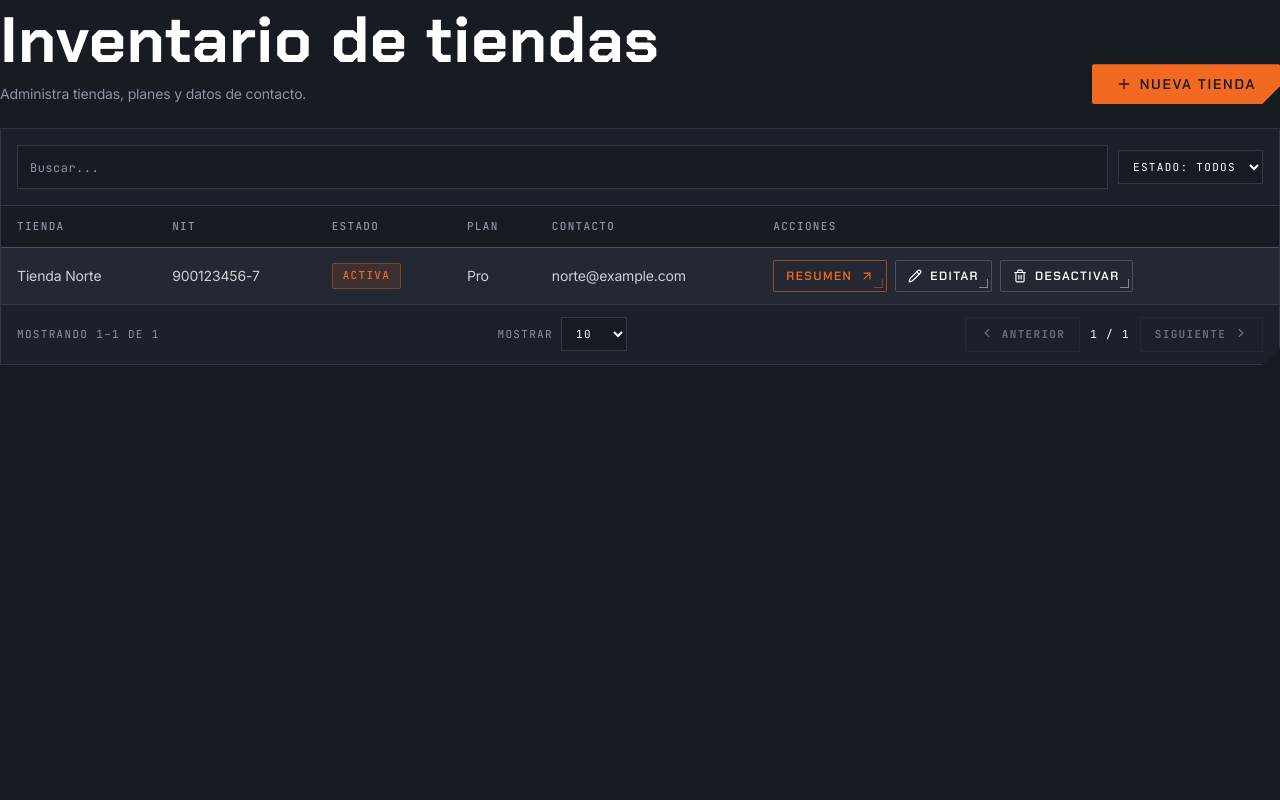
Test: Administración de tiendas › confirma la desactivación lógica y conserva el historial
Click the button "Desactivar".
click(1066, 276)  # box [1000,260,1133,292]
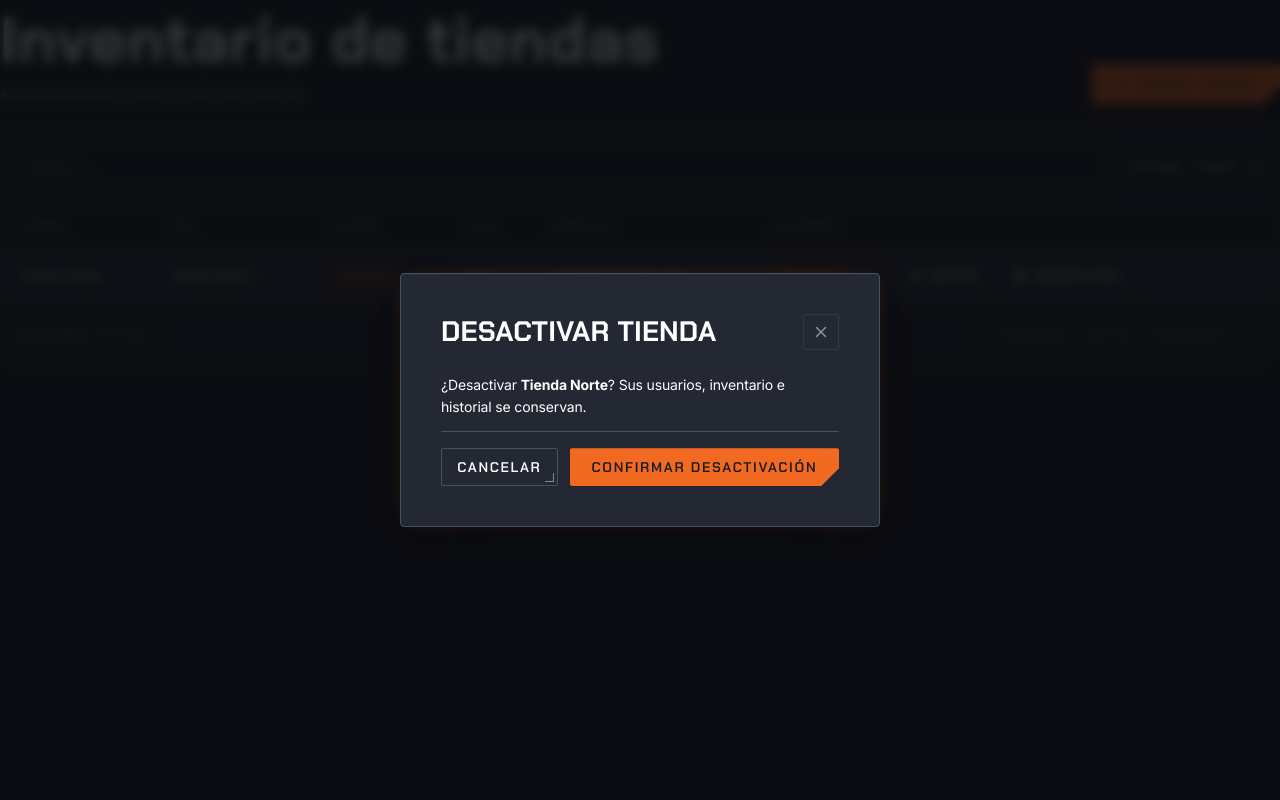
Expected: the dialog shows "historial se conservan", [441,376,785,414]
Click the button "Confirmar desactivación".
click(704, 467)  # box [570,448,839,486]
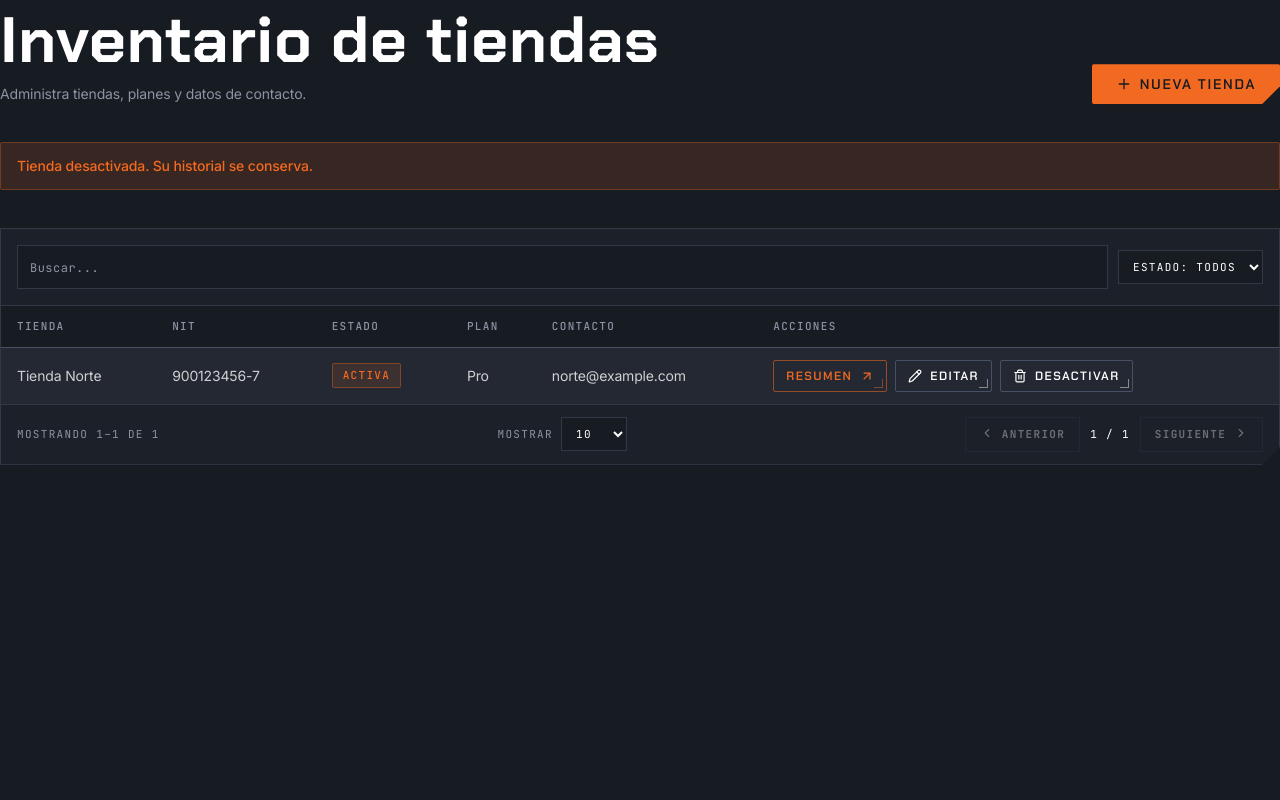
Expected: the message shows "Tienda desactivada.", [17,157,313,174]
